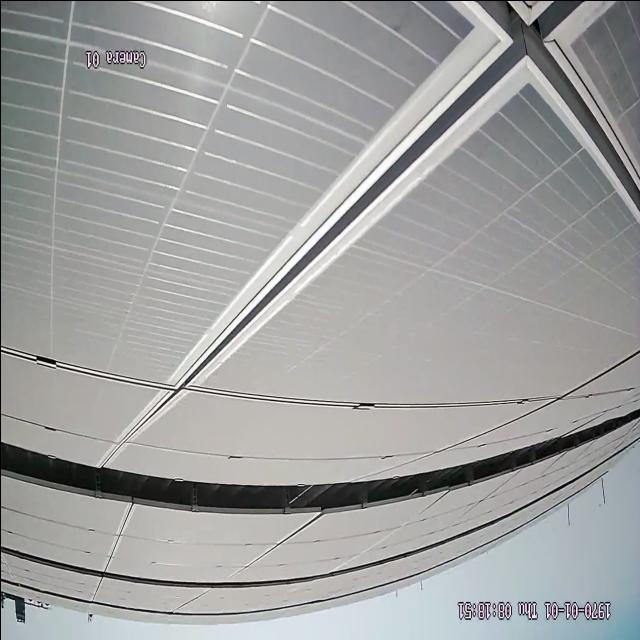interior panel: (105, 1, 639, 463), (225, 517, 316, 576), (102, 513, 131, 560)
outher panel: (1, 411, 636, 509)
